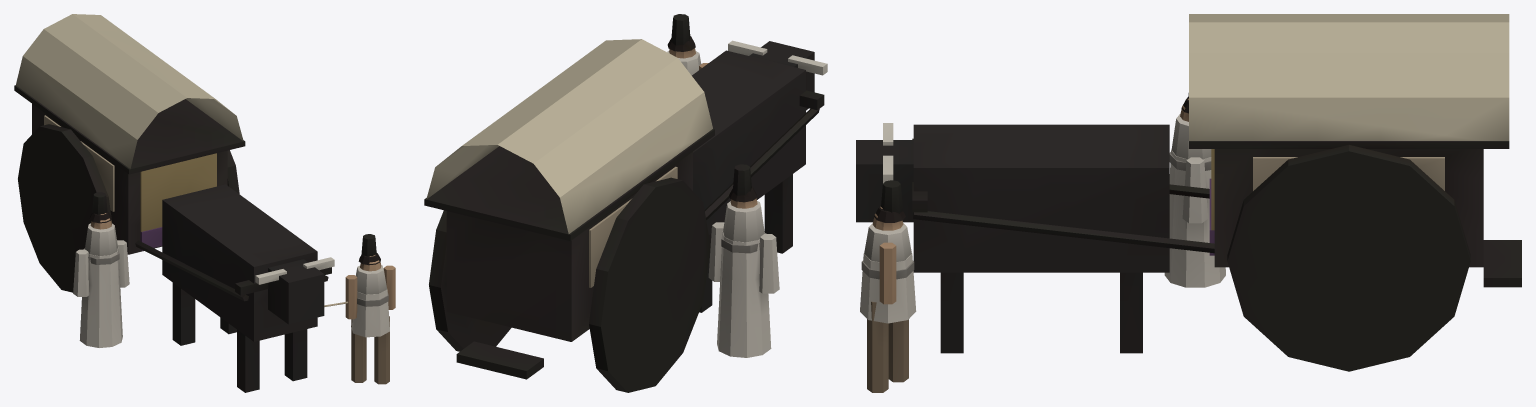
Rendered from cart.glb.
3 views of the same model, side by side, from view 1: azimuth 30°, elevation 25°; view 2: azimuth 150°, elevation 25°; view 3: azimuth 270°, elevation 25° (orthographic). The views are drawn at different scales.
Visible parts, largest first — view 1: base; view 2: base; view 3: base.
Part boxes in pixels (x1=…): base: x1=14, y1=14, x2=395, y2=392; base: x1=424, y1=14, x2=827, y2=392; base: x1=856, y1=14, x2=1521, y2=392.
Bounding box in the file's own units: 2.62 × 2.67 × 5.2.
